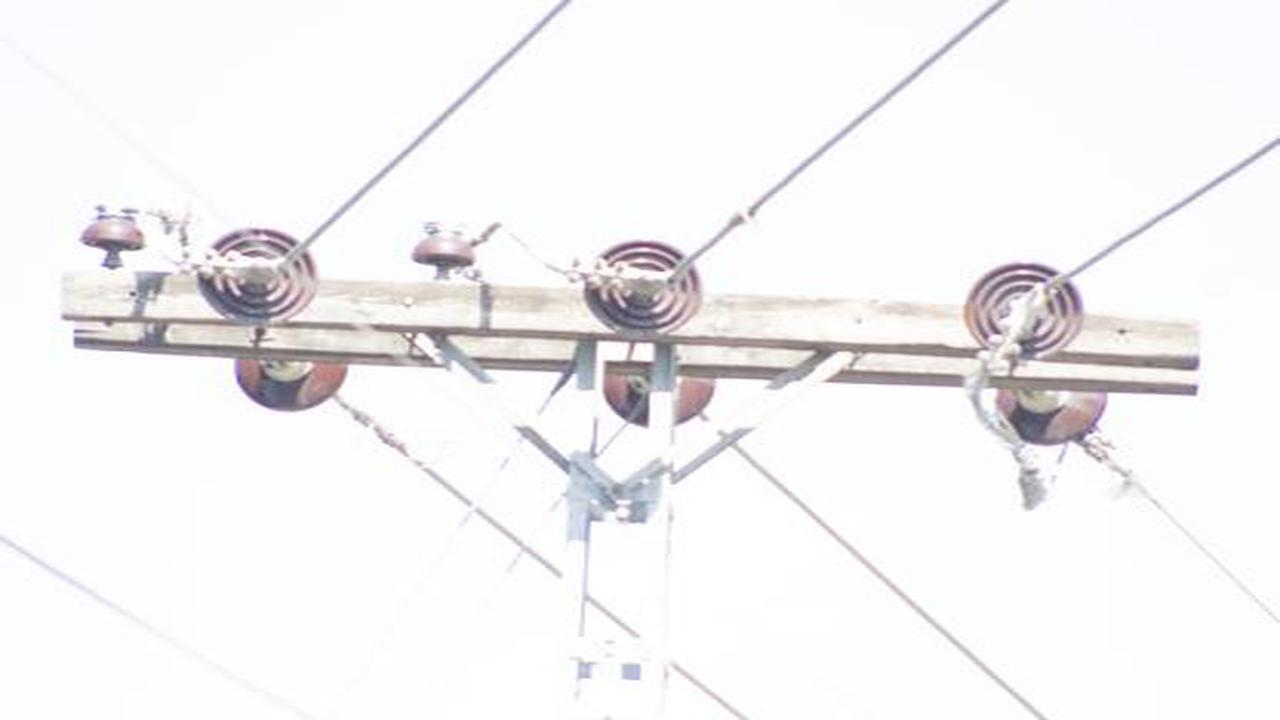insulator_disc: (956, 258, 1089, 360), (195, 223, 324, 323), (581, 238, 704, 334), (230, 351, 351, 416), (989, 385, 1111, 449), (601, 368, 722, 431)
insulator_pin: (408, 216, 485, 273), (77, 199, 149, 259)
